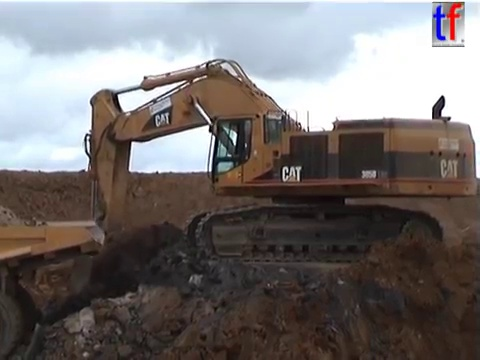excavator: (64, 55, 480, 312)
truck: (1, 216, 107, 360)
